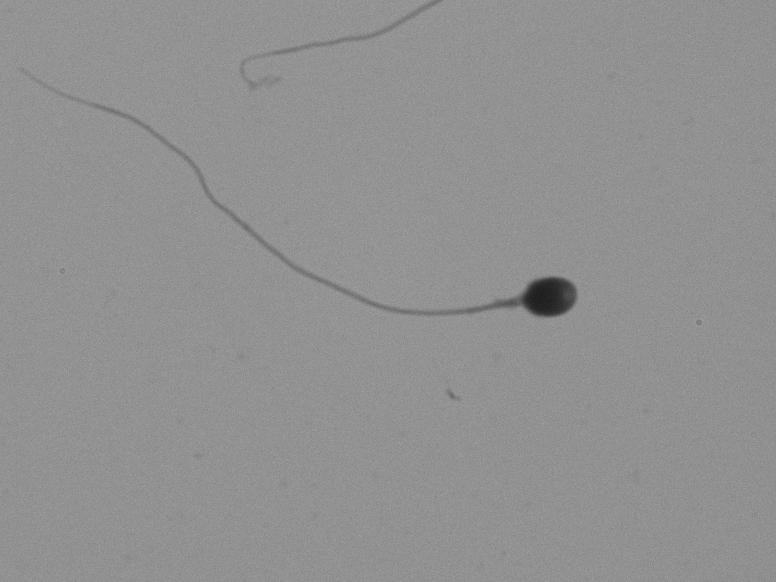Normal: (51, 69, 601, 385)
